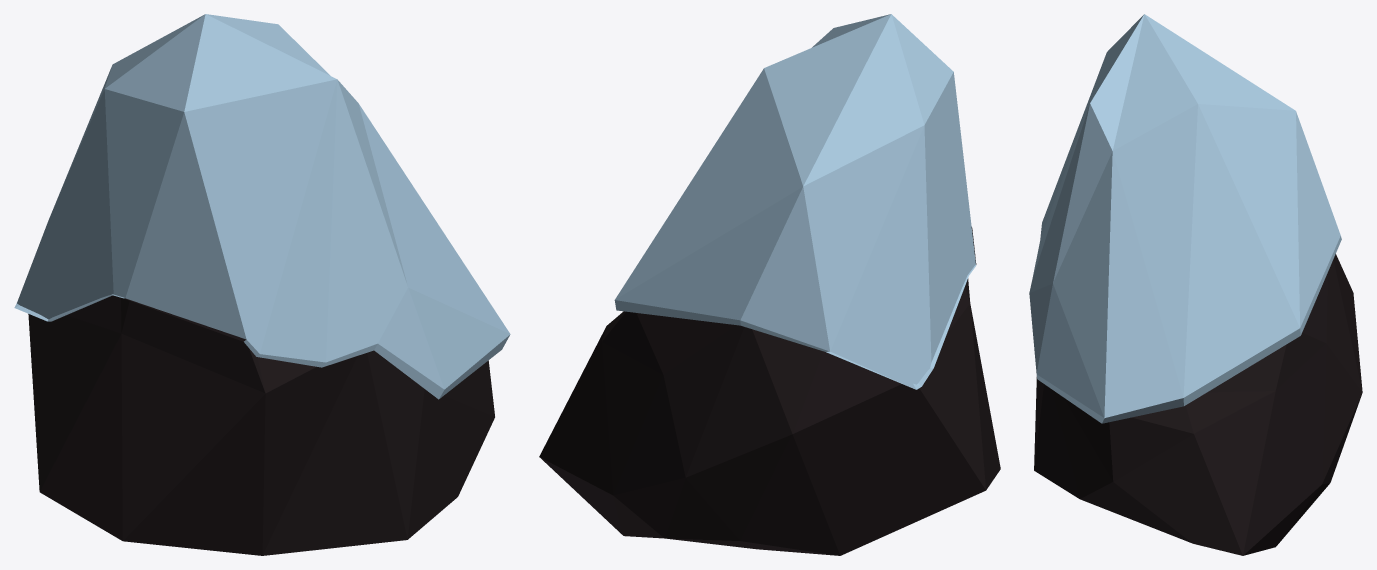
Rendered from rock1.fbx.
The picture shows the model from 3 angles, left to right: view 1: azimuth 30°, elevation 25°; view 2: azimuth 150°, elevation 25°; view 3: azimuth 270°, elevation 25°; orthographic projection. The views are drawn at different scales.
Visible parts, largest first — view 1: rock1; view 2: rock1; view 3: rock1.
Part boxes in pixels (<box>): rock1: <box>14,14,510,555</box>; rock1: <box>539,14,1000,555</box>; rock1: <box>1029,14,1362,555</box>.
Size of the model in its own units: 272 by 319 by 214.
